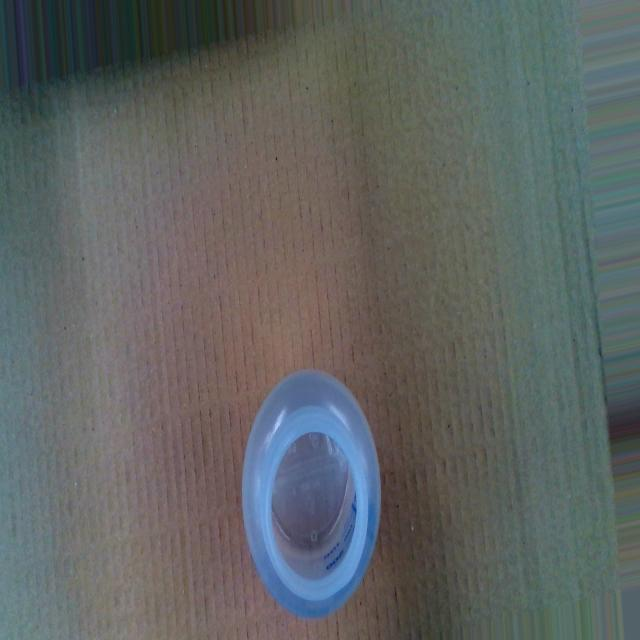bottle: (238, 365, 386, 624)
